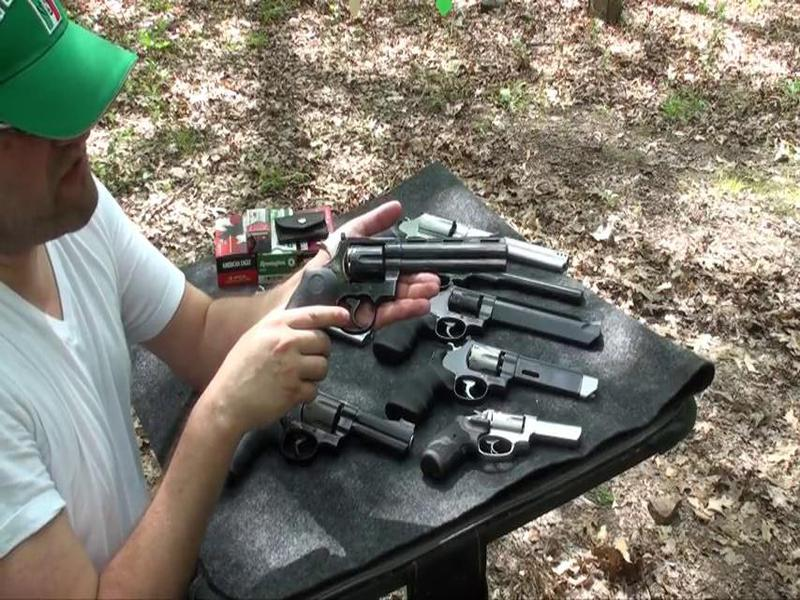Revolver: (277, 222, 523, 344), (419, 401, 583, 487)
